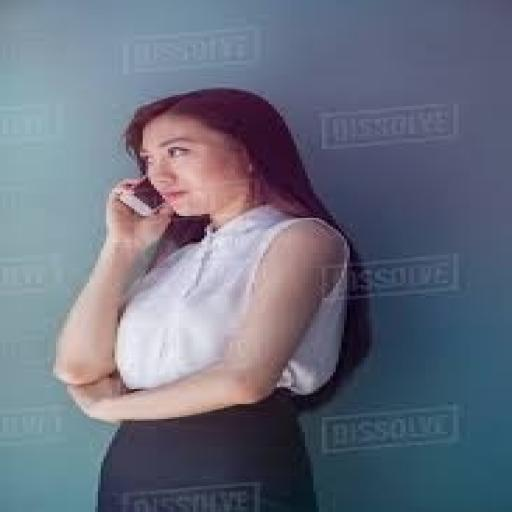calling: (48, 86, 366, 510)
